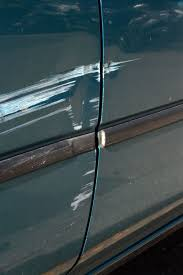scratch: (7, 60, 117, 138), (68, 158, 98, 223)
